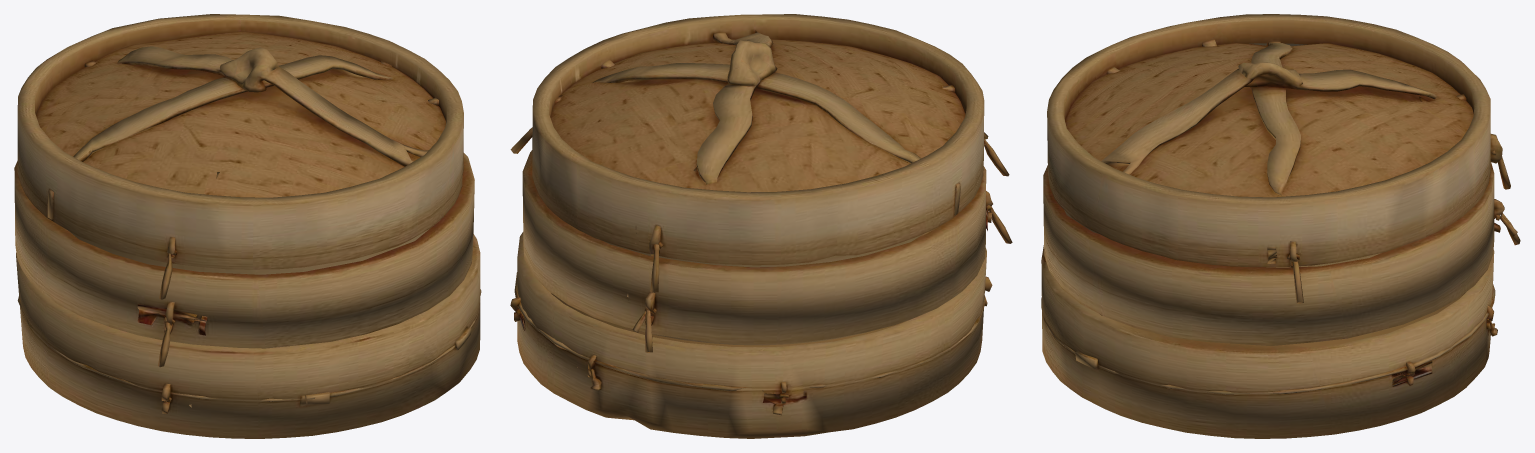
The model's file is steamer.glb.
3 views of the same model, side by side, from view 1: azimuth 30°, elevation 25°; view 2: azimuth 150°, elevation 25°; view 3: azimuth 270°, elevation 25° (orthographic). The views are drawn at different scales.
Visible parts, largest first — view 1: tripo_node_245a815d-84ec-4364-a2d2-8426015c6e61; view 2: tripo_node_245a815d-84ec-4364-a2d2-8426015c6e61; view 3: tripo_node_245a815d-84ec-4364-a2d2-8426015c6e61.
Boxes of the visible parts, <box> form: tripo_node_245a815d-84ec-4364-a2d2-8426015c6e61: <box>14,14,481,438</box>; tripo_node_245a815d-84ec-4364-a2d2-8426015c6e61: <box>510,14,1012,438</box>; tripo_node_245a815d-84ec-4364-a2d2-8426015c6e61: <box>1041,14,1520,438</box>.
Bounding box in the file's own units: 0.998 × 0.6582 × 0.998.
Materials: 1 (1 with a texture image).
